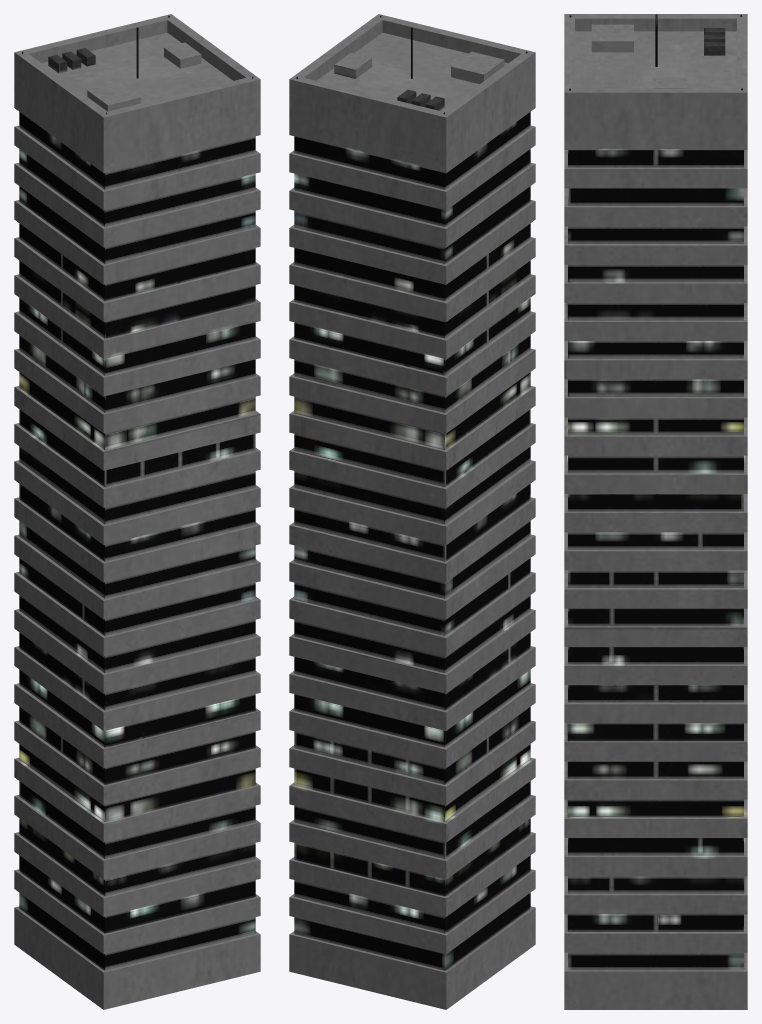
The model's file is brutalist-skyscraper-1.001_baked.glb.
The picture shows the model from 3 angles, left to right: view 1: azimuth 30°, elevation 25°; view 2: azimuth 150°, elevation 25°; view 3: azimuth 270°, elevation 25°; orthographic projection. The views are drawn at different scales.
Visible parts, largest first — view 1: brutalist-skyscraper-1.002; view 2: brutalist-skyscraper-1.002; view 3: brutalist-skyscraper-1.002.
Boxes of the visible parts, box(x1,y1,x2,y2) form: brutalist-skyscraper-1.002: box(14, 14, 260, 1009); brutalist-skyscraper-1.002: box(289, 14, 535, 1009); brutalist-skyscraper-1.002: box(564, 14, 747, 1009).
Bounding box in the file's own units: 36.28 × 206 × 35.73.
Materials: 1 (1 with a texture image).
